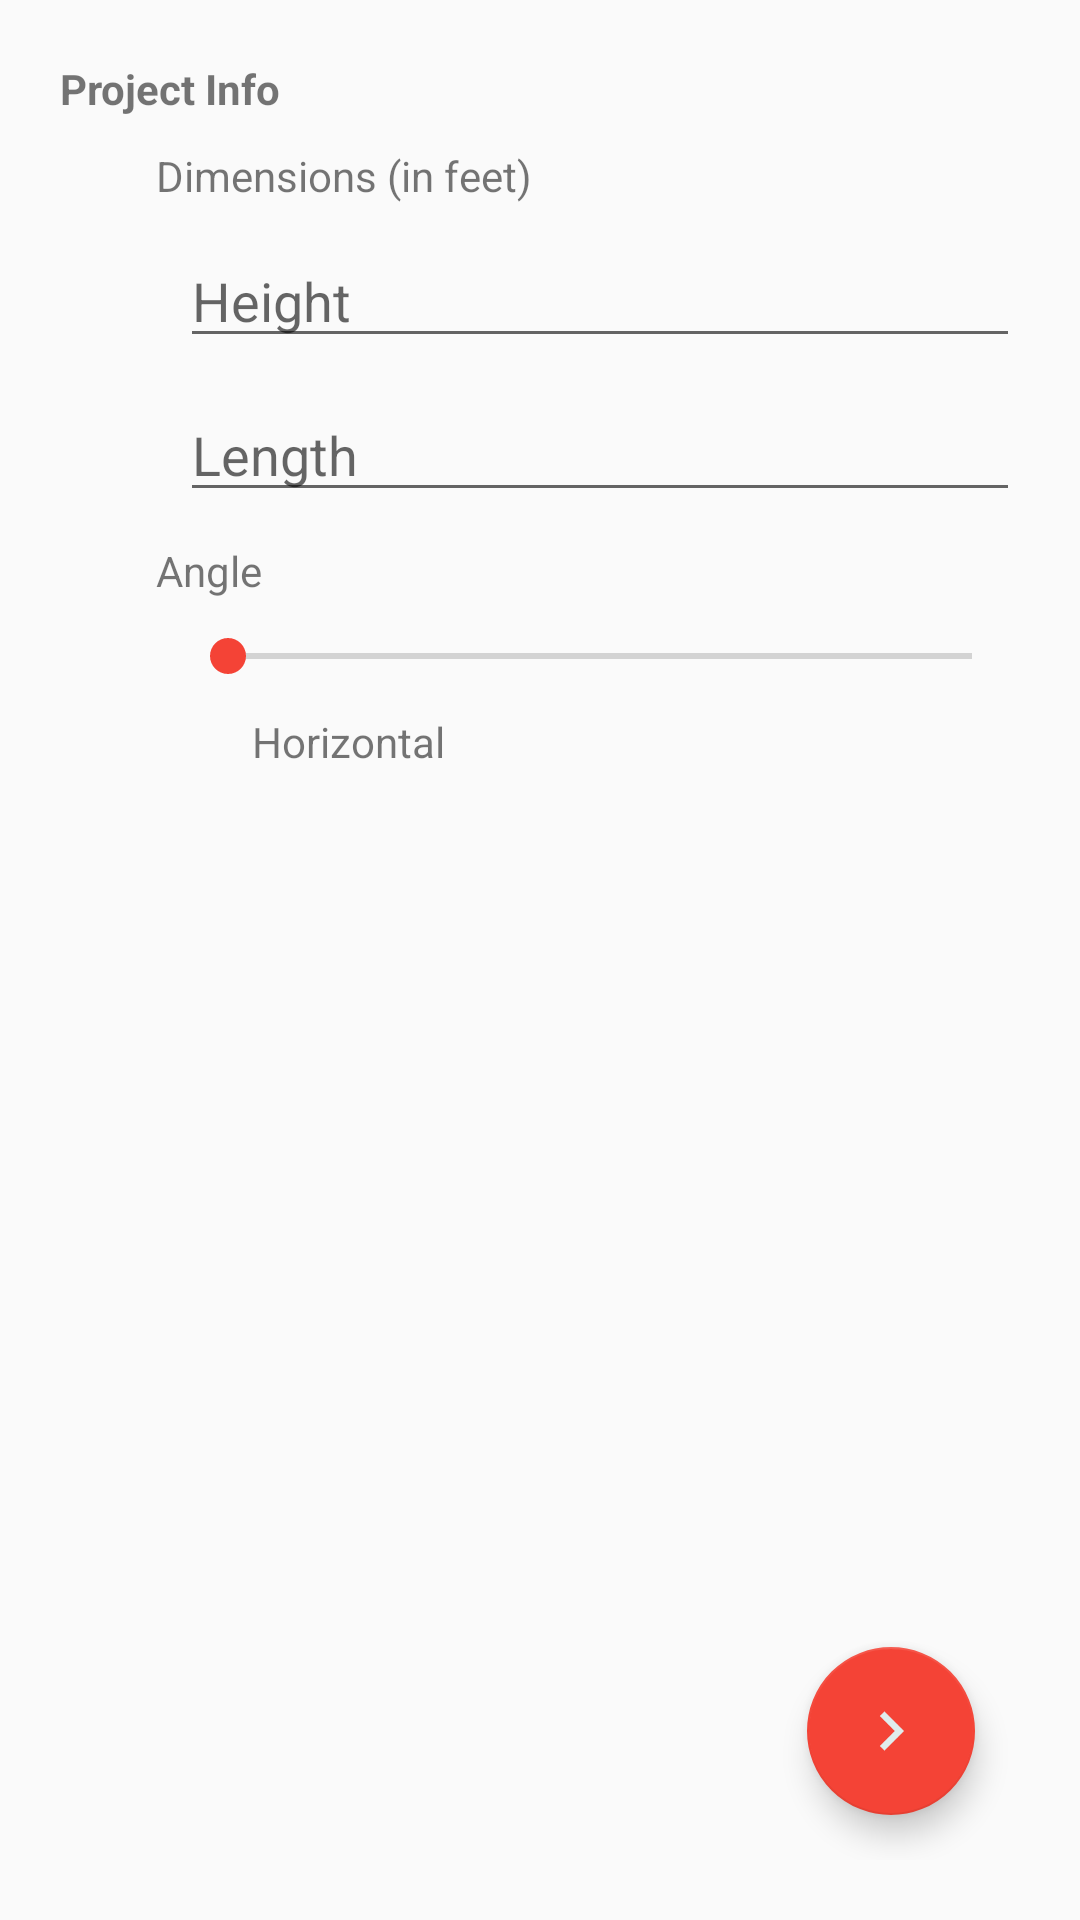

Icon click points for this 1080px×1920px phone screenshot, format [x,y]:
right arrow: [891,1731]
